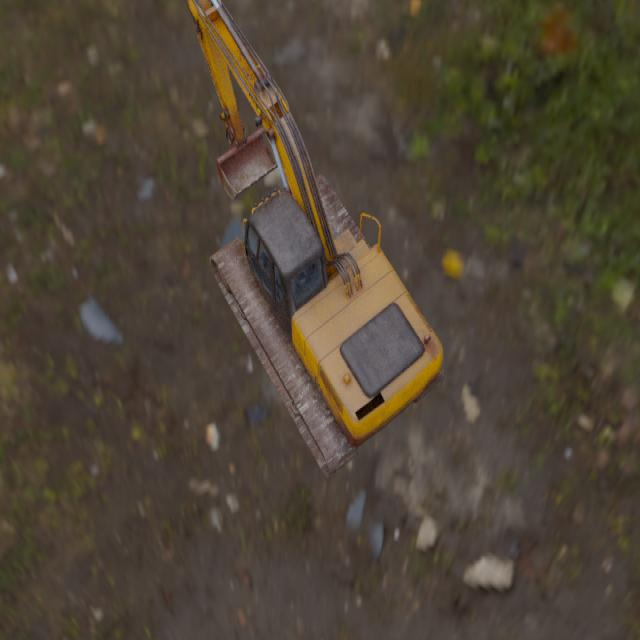excavator: (184, 0, 444, 480)
